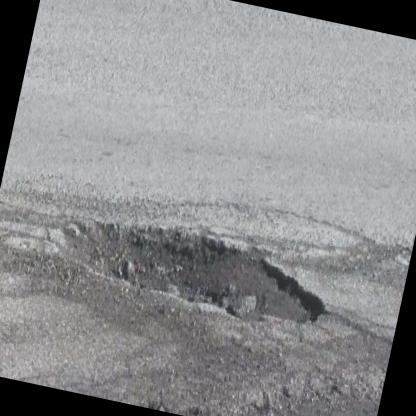pothole: (52, 192, 341, 338)
